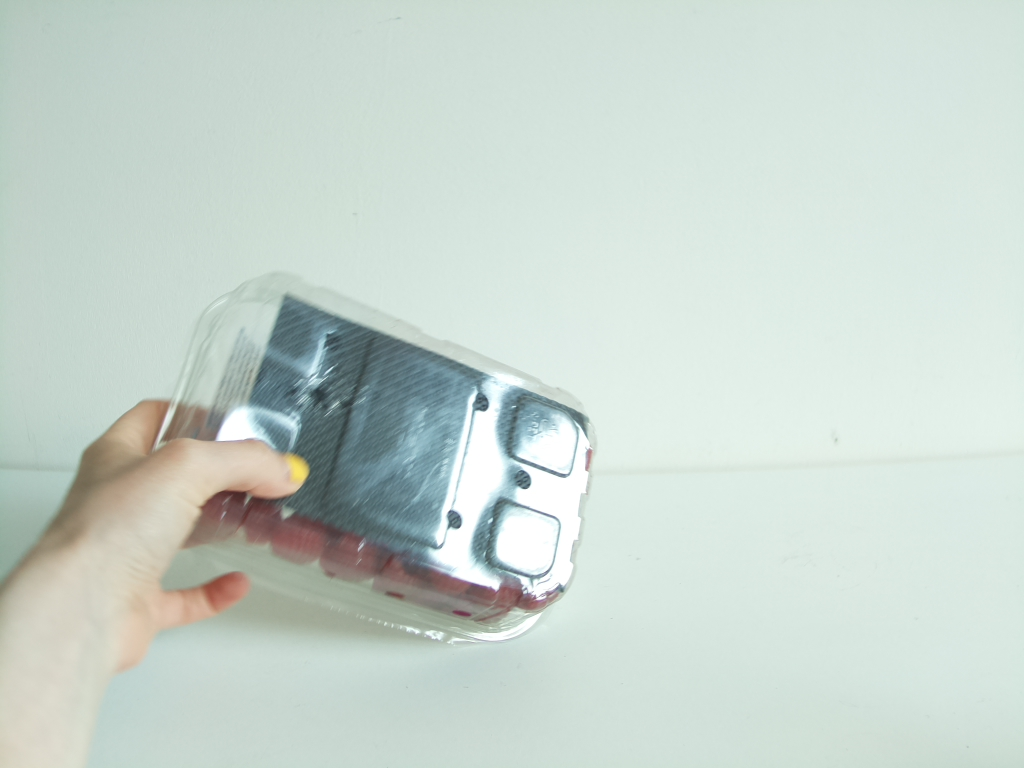soft-fruit: (126, 275, 612, 647)
